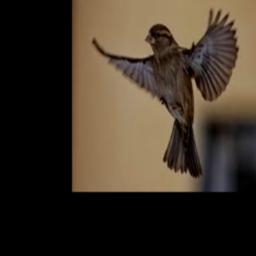Sparrow: (93, 7, 239, 177)
